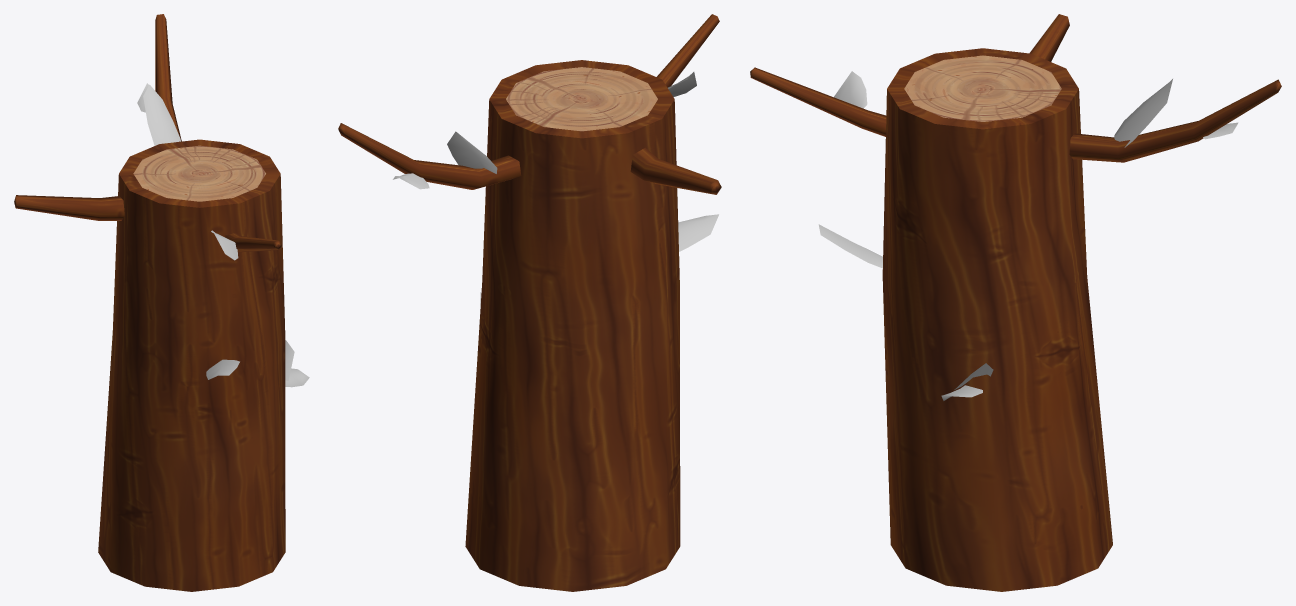
The model's file is obj_harvests_trees_spruce02_p01.fbx.
3 views of the same model, side by side, from view 1: azimuth 30°, elevation 25°; view 2: azimuth 150°, elevation 25°; view 3: azimuth 270°, elevation 25° (orthographic). The views are drawn at different scales.
Visible parts, largest first — view 1: obj_harvests_trees_spruce02_p01; view 2: obj_harvests_trees_spruce02_p01; view 3: obj_harvests_trees_spruce02_p01.
Boxes of the visible parts, x1=… form: obj_harvests_trees_spruce02_p01: x1=14, y1=14, x2=309, y2=591; obj_harvests_trees_spruce02_p01: x1=338, y1=14, x2=721, y2=591; obj_harvests_trees_spruce02_p01: x1=750, y1=14, x2=1281, y2=591.
Size of the model in its own units: 5.35 by 9.01 by 8.45.
